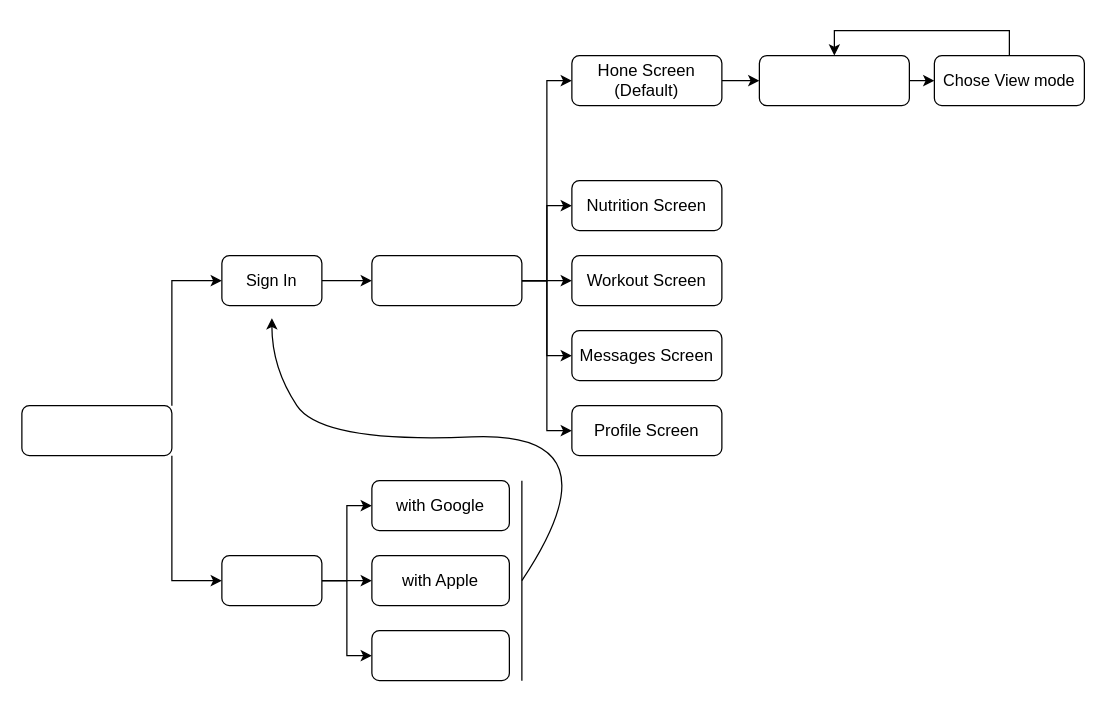
Some shapes in this 1106 by 704 pixel diagram are drawn without their labels. Each missing label, with the centre of its shape:
Calendar View Page: [833,80]
Default Screen: [96,430]
Main Screen: [446,280]
Sign Up: [271,580]
with Email & Password: [440,655]
